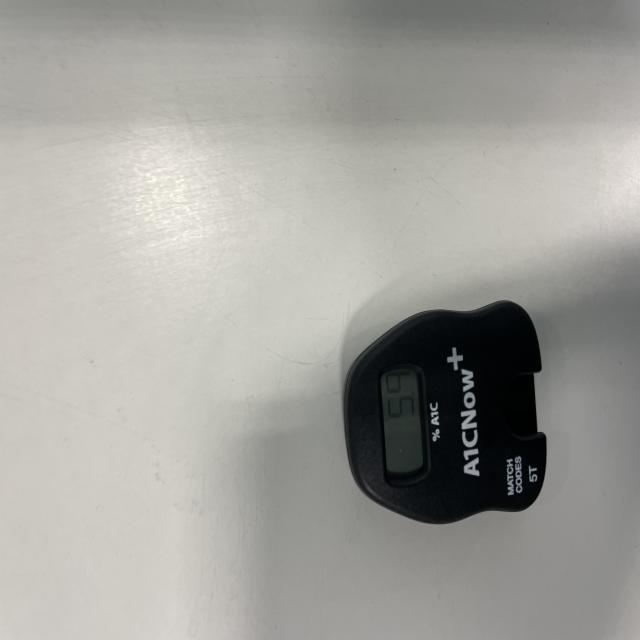hba1c: (342, 301, 548, 527)
